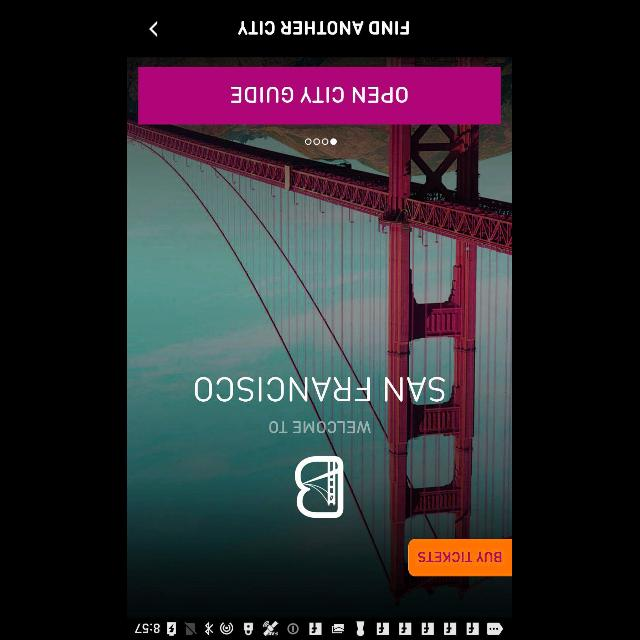backgroundimage: (128, 57, 512, 618)
icon: (150, 21, 158, 37)
image: (296, 456, 344, 518)
pageindicator: (306, 137, 338, 145)
text: (196, 376, 447, 402), (238, 20, 410, 34), (270, 421, 372, 434)
textbutton: (138, 67, 502, 125), (410, 538, 512, 576)
uppertaskbar: (128, 619, 512, 639)
